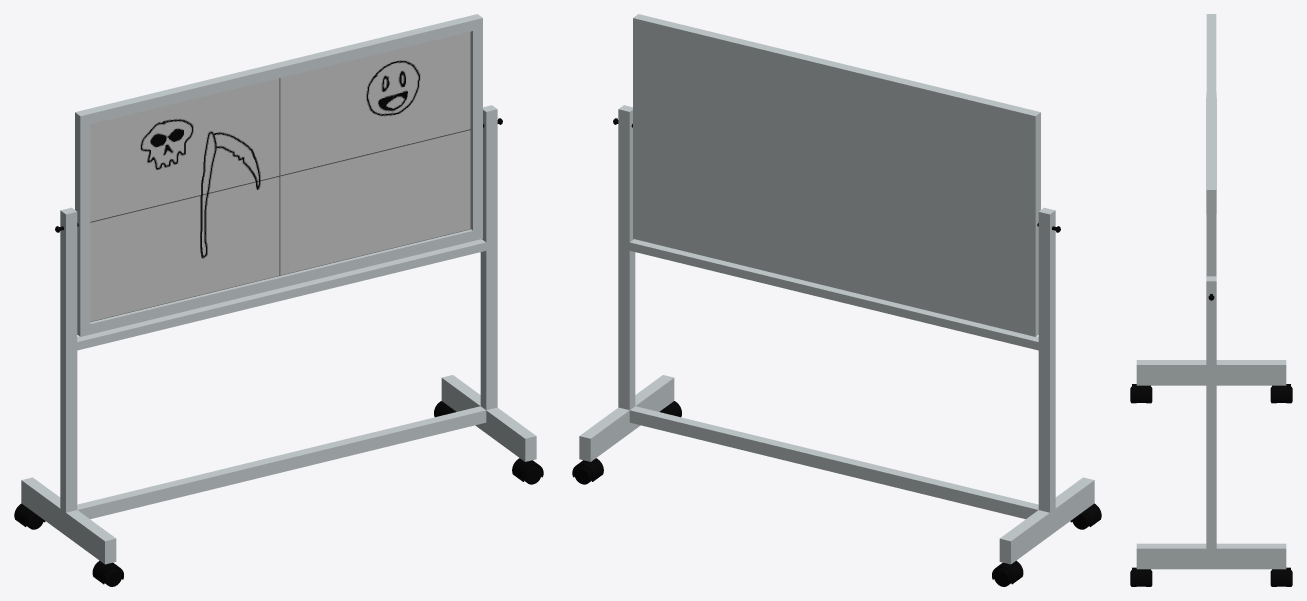
Rendered from WhiteBoard7.fbx.
3 views of the same model, side by side, from view 1: azimuth 30°, elevation 25°; view 2: azimuth 150°, elevation 25°; view 3: azimuth 270°, elevation 25° (orthographic). The views are drawn at different scales.
Visible parts, largest first — view 1: WhiteBoard, WhiteBoardSupport; view 2: WhiteBoard, WhiteBoardSupport; view 3: WhiteBoardSupport, WhiteBoard, WheelCover, WheelCover.001, WheelCover.002, WheelCover.003.
Part boxes in pixels (bbox=[...]): WhiteBoard: bbox=[75, 14, 482, 336]; WhiteBoardSupport: bbox=[21, 105, 536, 564]; WhiteBoard: bbox=[633, 14, 1040, 336]; WhiteBoardSupport: bbox=[579, 105, 1094, 564]; WhiteBoardSupport: bbox=[1136, 93, 1286, 569]; WhiteBoard: bbox=[1206, 14, 1216, 276]; WheelCover: bbox=[1132, 567, 1150, 586]; WheelCover.001: bbox=[1272, 567, 1290, 586]; WheelCover.002: bbox=[1132, 384, 1150, 402]; WheelCover.003: bbox=[1272, 384, 1290, 402].
Bounding box in the file's own units: 4654 × 4364 × 1633.
Materials: 9 (1 with a texture image).
